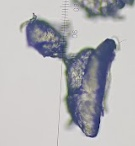microplastic: (73, 36, 118, 140), (61, 47, 101, 140), (26, 19, 68, 60), (71, 1, 135, 20), (18, 12, 38, 33)
